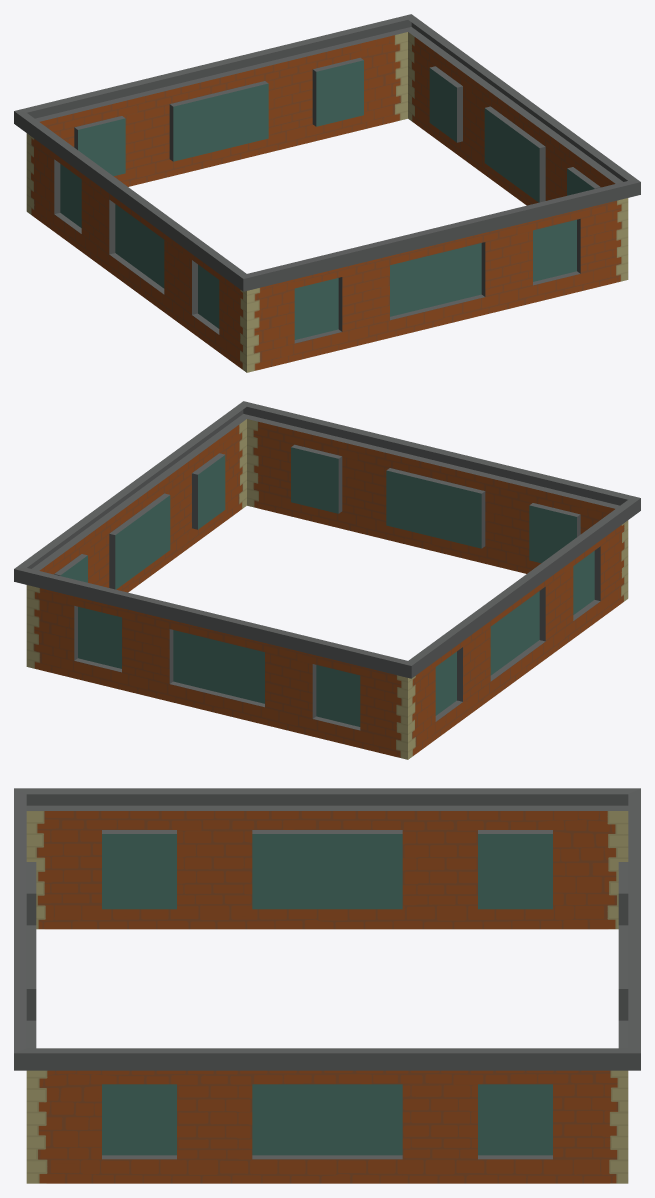
The model's file is gebouw2.fbx.
The picture shows the model from 3 angles, top to bottom: view 1: azimuth 30°, elevation 25°; view 2: azimuth 150°, elevation 25°; view 3: azimuth 270°, elevation 25°; orthographic projection. The views are drawn at different scales.
Parts seen in each view (by area): view 1: polySurface1; view 2: polySurface1; view 3: polySurface1.
Part boxes in pixels (left/top/right/bottom): polySurface1: left=14, top=14, right=640, bottom=372; polySurface1: left=14, top=401, right=640, bottom=759; polySurface1: left=14, top=788, right=640, bottom=1183.
Bounding box in the file's own units: 22.68 × 5.41 × 22.68.
